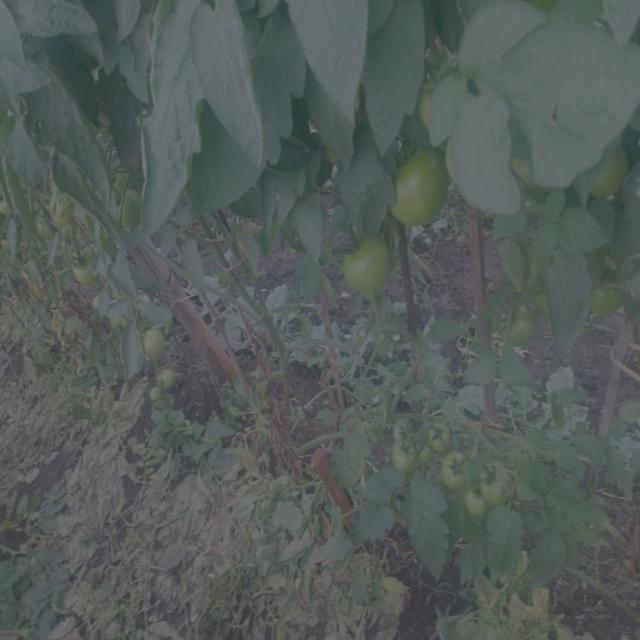tomato: (394, 145, 448, 228), (330, 227, 390, 296), (583, 133, 637, 208), (582, 266, 638, 320), (505, 575, 556, 622), (496, 300, 544, 345), (477, 456, 517, 501), (133, 322, 178, 360), (435, 450, 473, 490), (72, 254, 107, 295), (147, 365, 188, 397), (384, 412, 418, 445), (389, 446, 421, 477), (33, 205, 57, 244), (464, 490, 489, 524), (428, 420, 455, 449)
